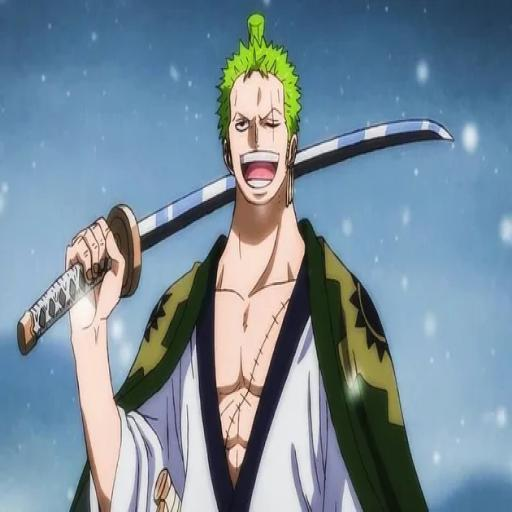Zoro: (56, 8, 427, 512)
